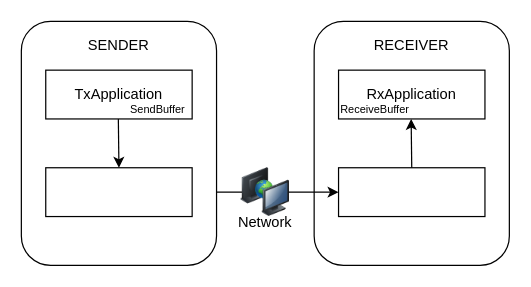
Image size: 531x287. Some labels were removed from this diagram. The centre of each missing label's shape, as x and y in pixels:
RxSocket: the point at 411,192
TxSocket: the point at 118,192
